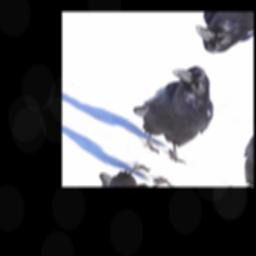Crow: (118, 46, 231, 170)
